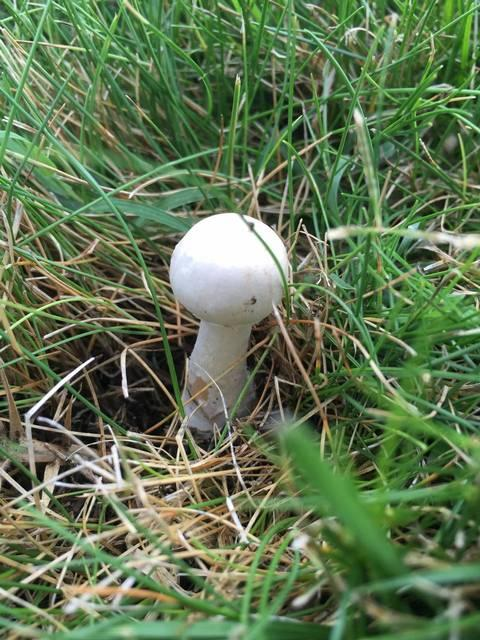Non-edible Mushroom: (167, 210, 291, 441)
